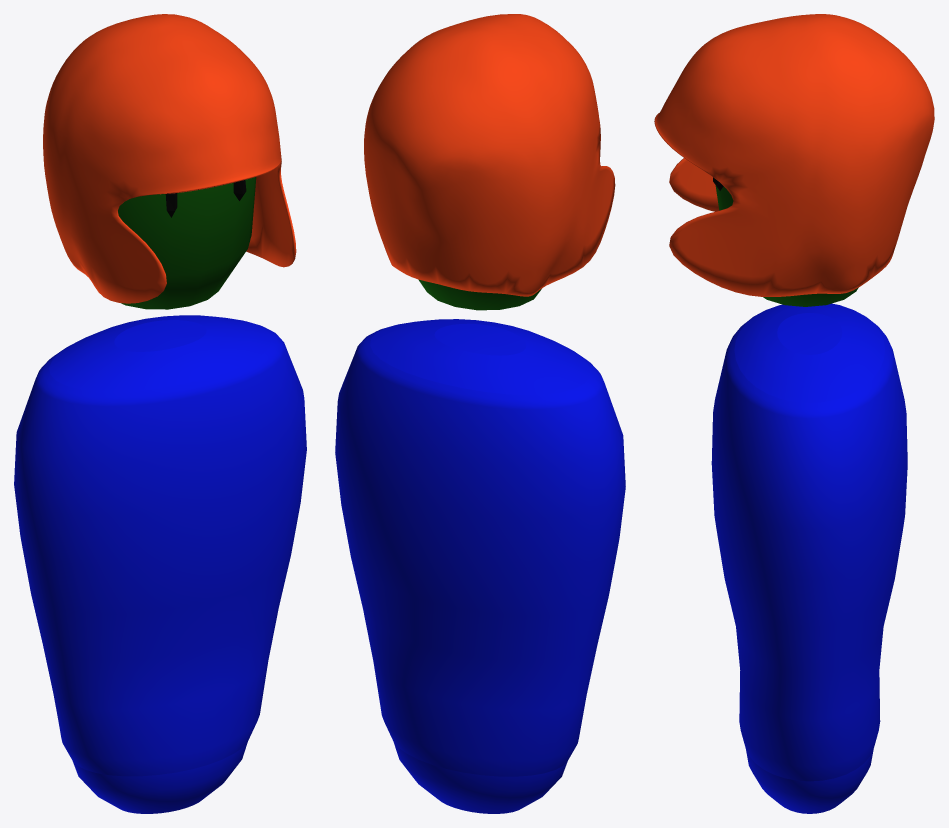
Rendered from futballplayer.fbx.
The picture shows the model from 3 angles, left to right: view 1: azimuth 30°, elevation 25°; view 2: azimuth 150°, elevation 25°; view 3: azimuth 270°, elevation 25°; orthographic projection.
Visible parts, largest first — view 1: Player Character Base Template.002, Icosphere.001, Player Character Base Template.004; view 2: Player Character Base Template.002, Icosphere.001, Player Character Base Template.004; view 3: Player Character Base Template.002, Icosphere.001, Player Character Base Template.004.
Boxes of the visible parts, <box> form: Player Character Base Template.002: <box>14,315,306,813</box>; Icosphere.001: <box>43,14,296,303</box>; Player Character Base Template.004: <box>118,177,256,309</box>; Player Character Base Template.002: <box>335,319,625,813</box>; Icosphere.001: <box>364,14,615,296</box>; Player Character Base Template.004: <box>418,279,541,310</box>; Player Character Base Template.002: <box>711,303,907,813</box>; Icosphere.001: <box>654,14,934,296</box>; Player Character Base Template.004: <box>715,185,858,306</box>.
Size of the model in its own units: 284 by 769 by 251.
